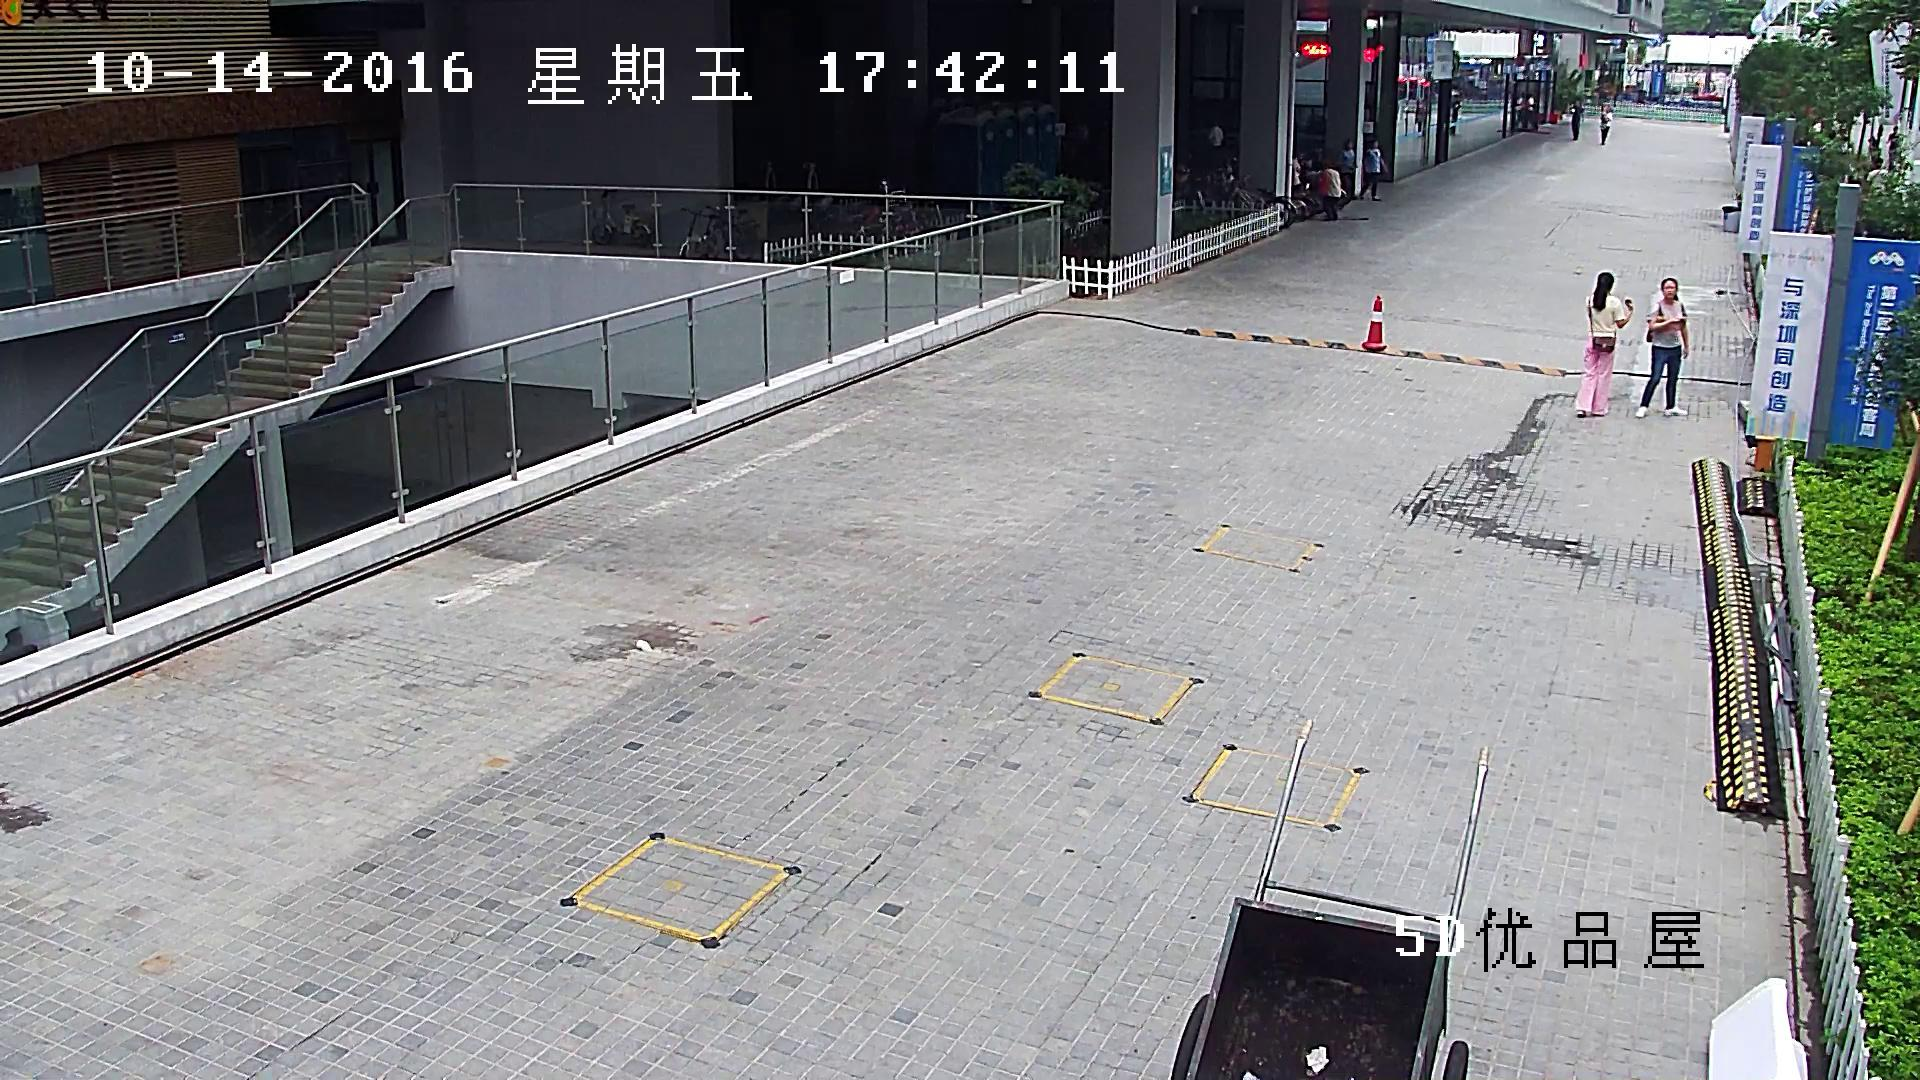person: (1575, 271, 1633, 417), (1634, 278, 1689, 418), (1358, 139, 1387, 201), (1320, 162, 1341, 220), (1340, 139, 1355, 192), (1523, 93, 1538, 129), (1886, 125, 1899, 159), (1600, 104, 1610, 145), (1515, 91, 1524, 128), (1207, 125, 1223, 146), (1570, 105, 1580, 140), (1293, 159, 1301, 190), (1600, 109, 1611, 129), (1450, 108, 1458, 135), (1417, 106, 1423, 132)
